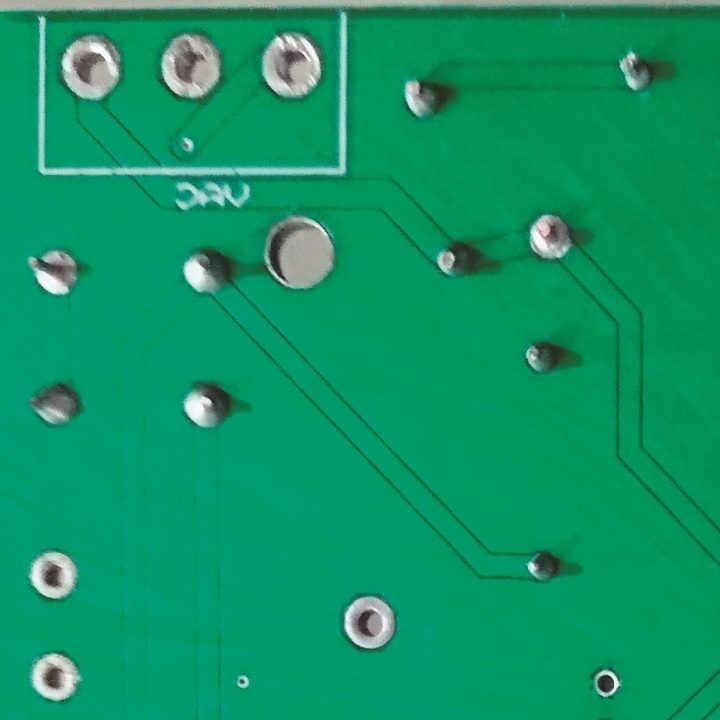F: (259, 29, 328, 106), (156, 32, 227, 104), (333, 586, 401, 656), (59, 33, 124, 103), (26, 647, 87, 711), (23, 547, 84, 604), (21, 243, 83, 295), (523, 210, 576, 263), (584, 662, 624, 706)
